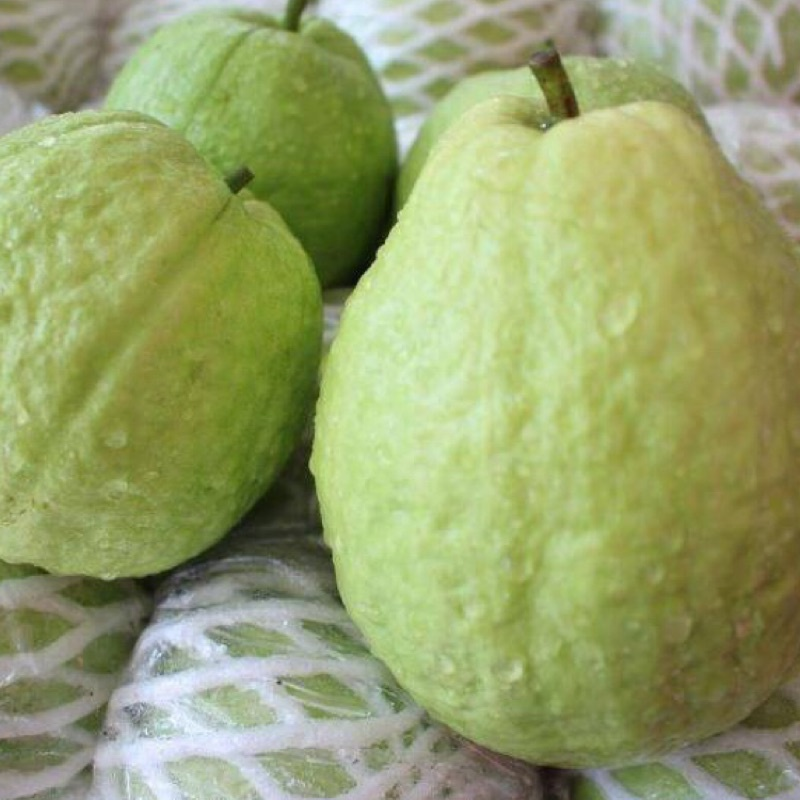guava: (316, 49, 800, 764), (3, 99, 315, 584)
